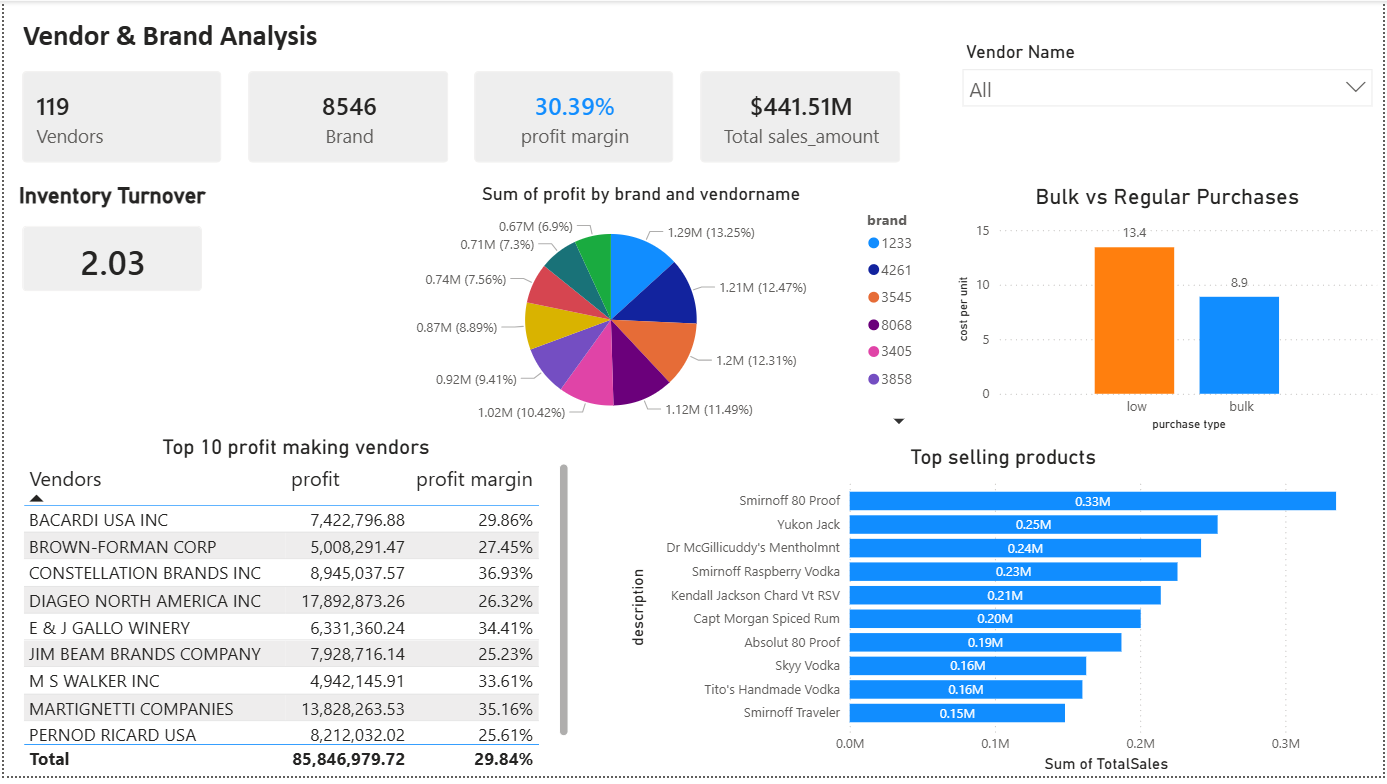

The dashboard page shown, as its layout file describes it:
{"tool":"powerbi","page":{"name":"Page 1","canvas":[1280,720],"ordinal":0},"visuals":[{"type":"textbox","box":[12.2,9.7,286.3,43.8],"z":0},{"type":"cardVisual","fields":{"Data":["store measuren.total vendors"]},"box":[0.1,48.5,219.2,119.6],"z":1000},{"type":"cardVisual","fields":{"Data":["Count(vendor.brand)"]},"box":[209.5,48.5,220.3,119.6],"z":2000},{"type":"cardVisual","fields":{"Data":["vendor.profit margin"]},"box":[420.1,48.5,219.2,119.6],"z":3000},{"type":"cardVisual","fields":{"Data":["Sum(vendor.sales_amount)"]},"box":[629.5,48.5,220.3,119.6],"z":4000},{"type":"tableEx","title":"Top 10 profit making vendors","fields":{"Values":["vendor.vendorname","Sum(vendor.profit)","vendor.profit margin"]},"box":[12.6,402.5,516.9,316.9],"z":7000},{"type":"columnChart","title":"Bulk vs Regular Purchases","fields":{"Category":["vendor.purchase type"],"Y":["store measuren.cost per unit"]},"box":[880.4,168.5,400,233.9],"z":8000},{"type":"cardVisual","title":"Inventory Turnover","fields":{"Data":["Avg(vendor.turnoverratio)"]},"box":[0,168.1,201,119.4],"z":8001},{"type":"barChart","title":"Top selling products","fields":{"Category":["High Selling Vendors.description"],"Y":["Sum(High Selling Vendors.TotalSales)"]},"box":[575,412.3,705.5,308],"z":8002},{"type":"pieChart","fields":{"Y":["Sum(vendor.profit)"],"Category":["vendor.brand"],"Series":["vendor.vendorname"]},"box":[319.5,168.5,543.3,233.9],"z":8003},{"type":"slicer","fields":{"Values":["vendor.vendorname"]},"box":[880.4,31.4,400,122],"z":8004}]}

Visuals, with their boxes in screenshot pixels (x1, y1, x2, y2), scaled from the page's 1280x720 canvas onto the 1387x784 screenshot:
textbox: 13 11 323 58
cardVisual - store measuren.total vendors: 0 53 238 183
cardVisual - Count(vendor.brand): 227 53 466 183
cardVisual - vendor.profit margin: 455 53 693 183
cardVisual - Sum(vendor.sales_amount): 682 53 921 183
"Top 10 profit making vendors" tableEx: 14 438 574 783
"Bulk vs Regular Purchases" columnChart: 954 183 1386 438
"Inventory Turnover" cardVisual: 0 183 218 313
"Top selling products" barChart: 623 449 1386 783
pieChart - Sum(vendor.profit) x vendor.brand: 346 183 935 438
slicer - vendor.vendorname: 954 34 1386 167
